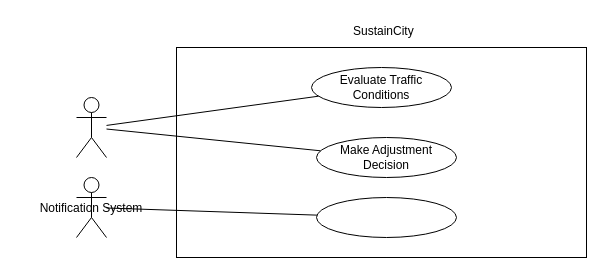
Some shapes in this 605 by 275 pixel diagram are drawn without their labels. The shapes that lost their labels are listed below. From the top down, each one's box as (x1, y1, x2, y2) in pixels, then its label:
(76, 96, 106, 158): Traffic Management System
(316, 196, 456, 238): Prepare Instructions
